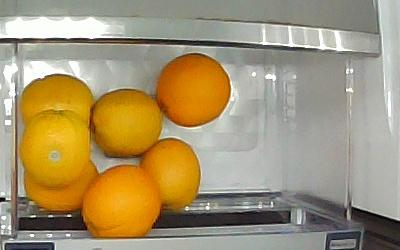orange: (83, 165, 160, 239), (20, 109, 89, 188), (157, 53, 230, 127), (88, 89, 162, 158), (137, 138, 201, 211), (19, 73, 93, 132), (23, 160, 98, 212)
